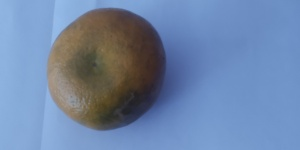BAD: (47, 6, 168, 131)
